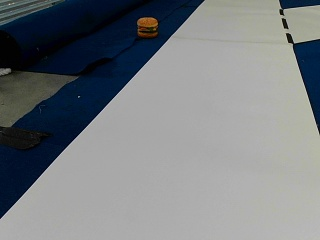burger: (136, 15, 158, 37)
